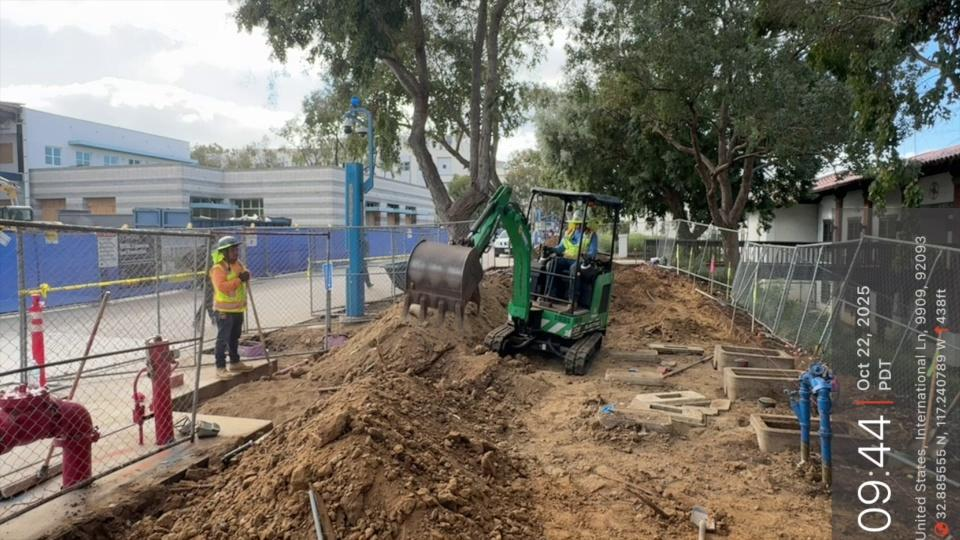Exacavator: (395, 183, 624, 376)
